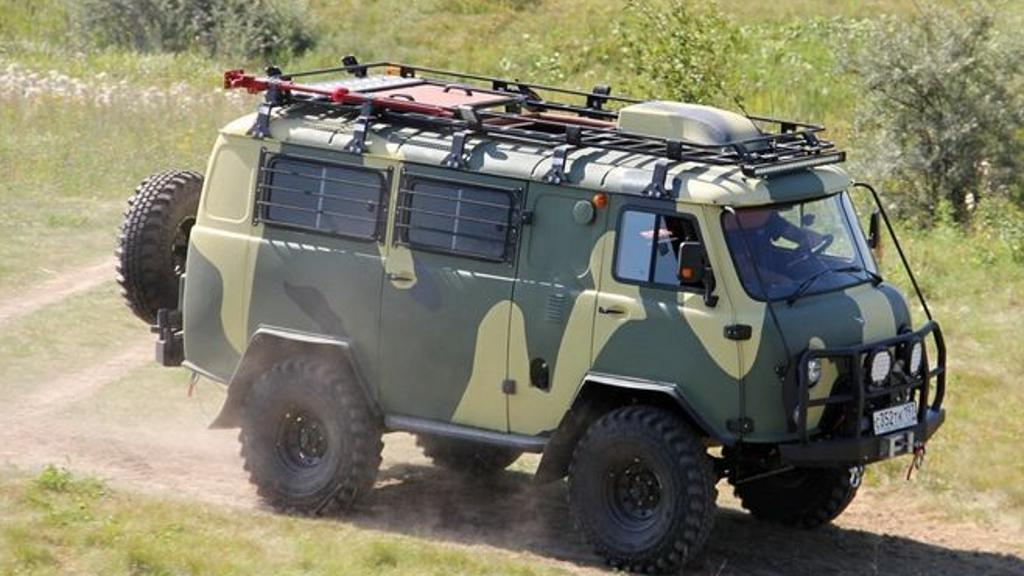CAR: (107, 54, 948, 575)
